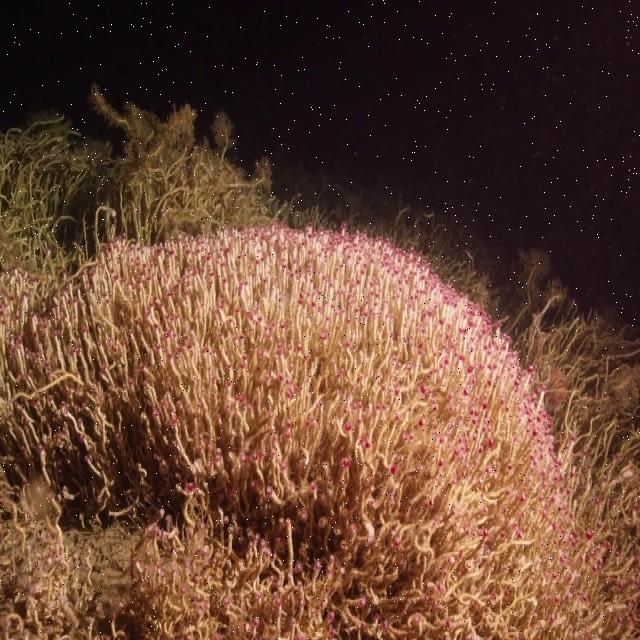aquatic plants: (0, 82, 639, 639)
